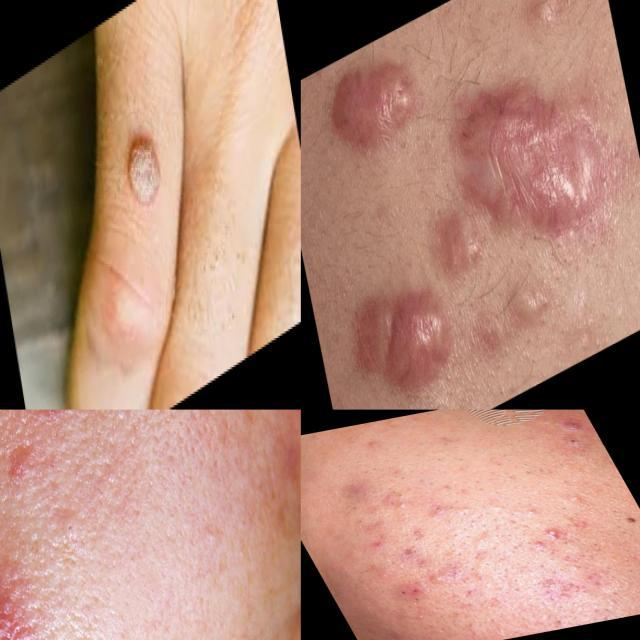Pimples: (431, 22, 640, 295), (320, 31, 433, 179), (342, 270, 459, 410), (484, 249, 578, 367), (520, 0, 577, 58), (431, 201, 466, 284), (0, 562, 28, 640), (18, 410, 77, 446), (514, 499, 554, 519), (540, 520, 571, 542), (421, 570, 454, 590), (554, 433, 590, 451), (382, 485, 414, 502), (554, 417, 584, 434)
